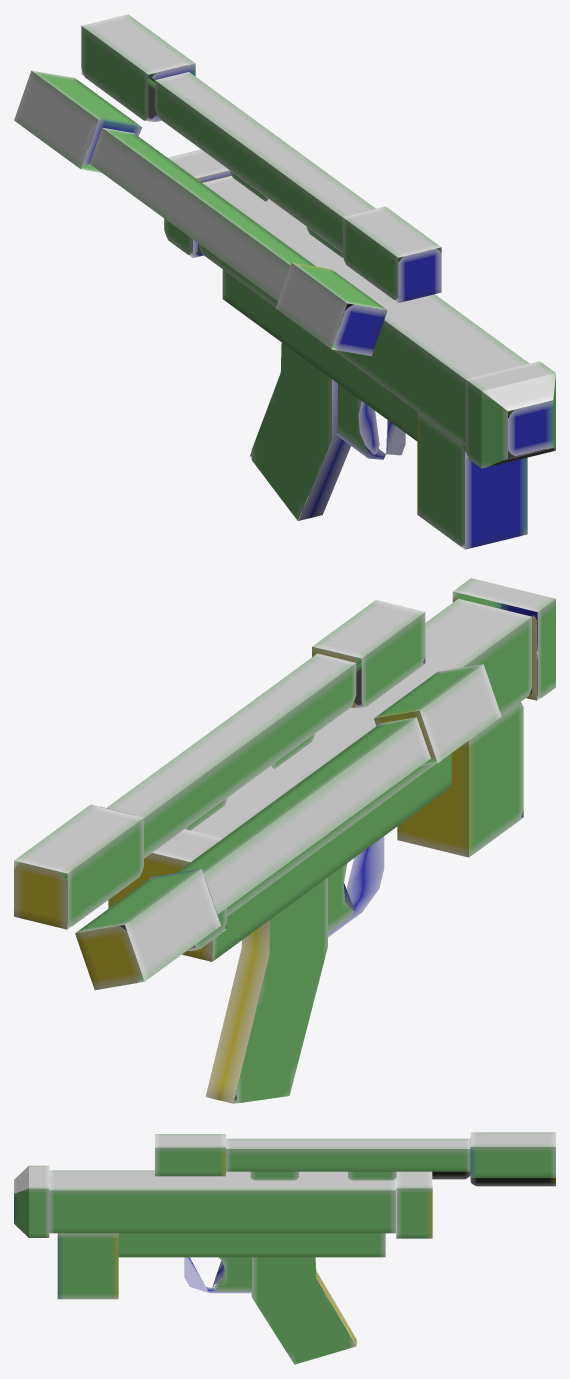
3 views of the same model, one above another, from view 1: azimuth 30°, elevation 25°; view 2: azimuth 150°, elevation 25°; view 3: azimuth 270°, elevation 25° (orthographic). The views are drawn at different scales.
Parts seen in each view (by area): view 1: pCube1, textureEditorIsolateSelectSet pCube1; view 2: pCube1; view 3: pCube1, textureEditorIsolateSelectSet pCube1.
Part boxes in pixels (x1=…): pCube1: x1=14, y1=14, x2=555, y2=549; textureEditorIsolateSelectSet pCube1: x1=481, y1=373, x2=555, y2=468; pCube1: x1=14, y1=578, x2=555, y2=1103; pCube1: x1=29, y1=1132, x2=555, y2=1364; textureEditorIsolateSelectSet pCube1: x1=14, y1=1166, x2=28, y2=1237.
Size of the model in its own units: 0.674 by 1.74 by 3.87.
